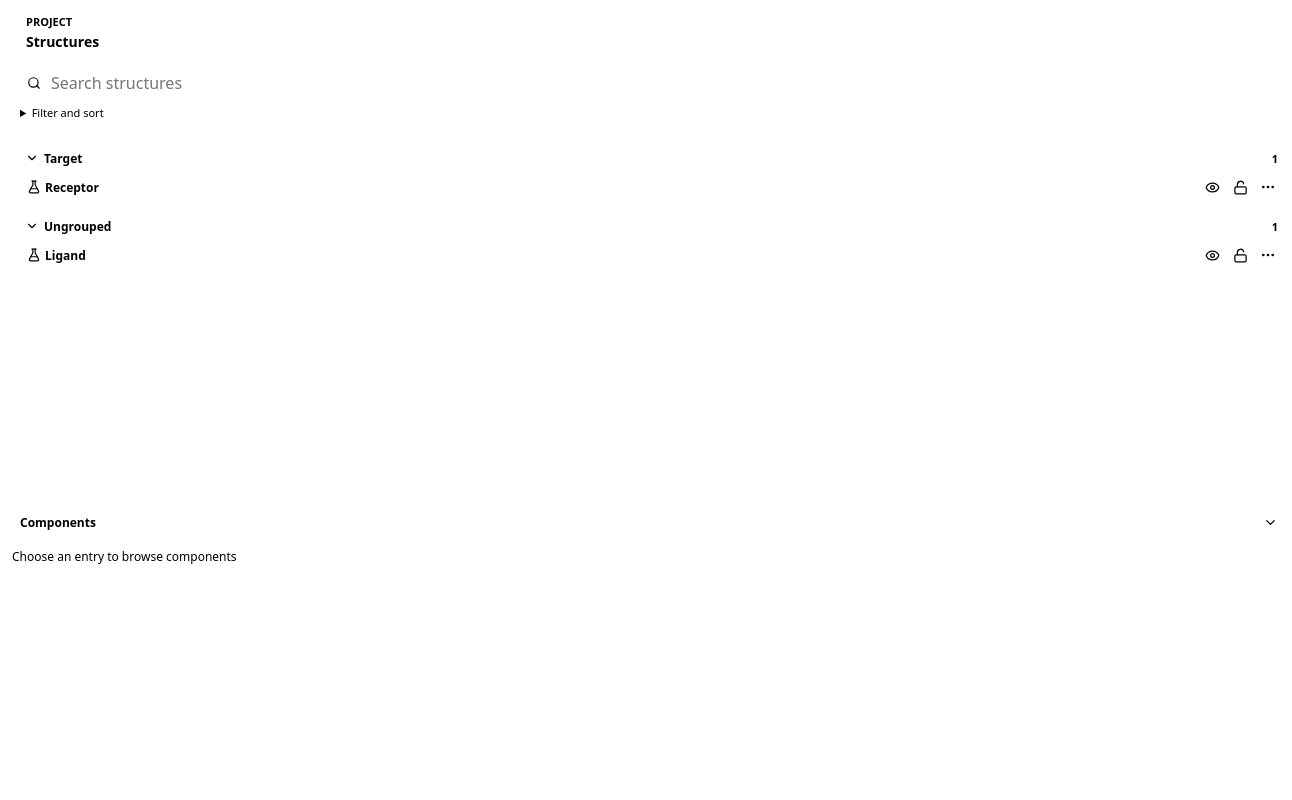
Test: retains filtered browsing, clears deletion and project changes, and does not reactivate on Undo
Click the button with class "entry-select" showing "Receptor" at (72, 187), box [22,173,1198,201]
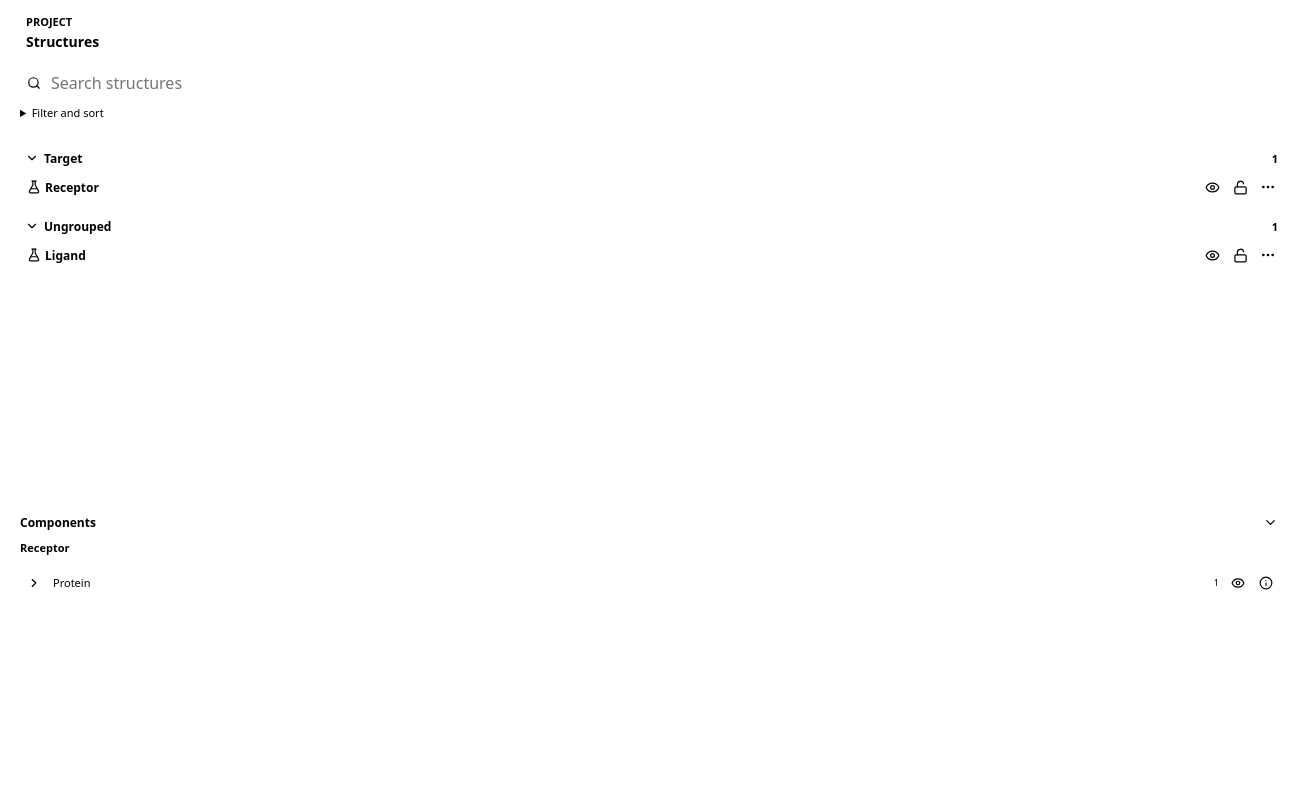
expect the button with aria-label "Select Protein in" is shown: met, box [48,569,1224,597]
Type "Ligand" into the field with placeholder "Search structures" at (666, 83), box [49,68,1284,98]
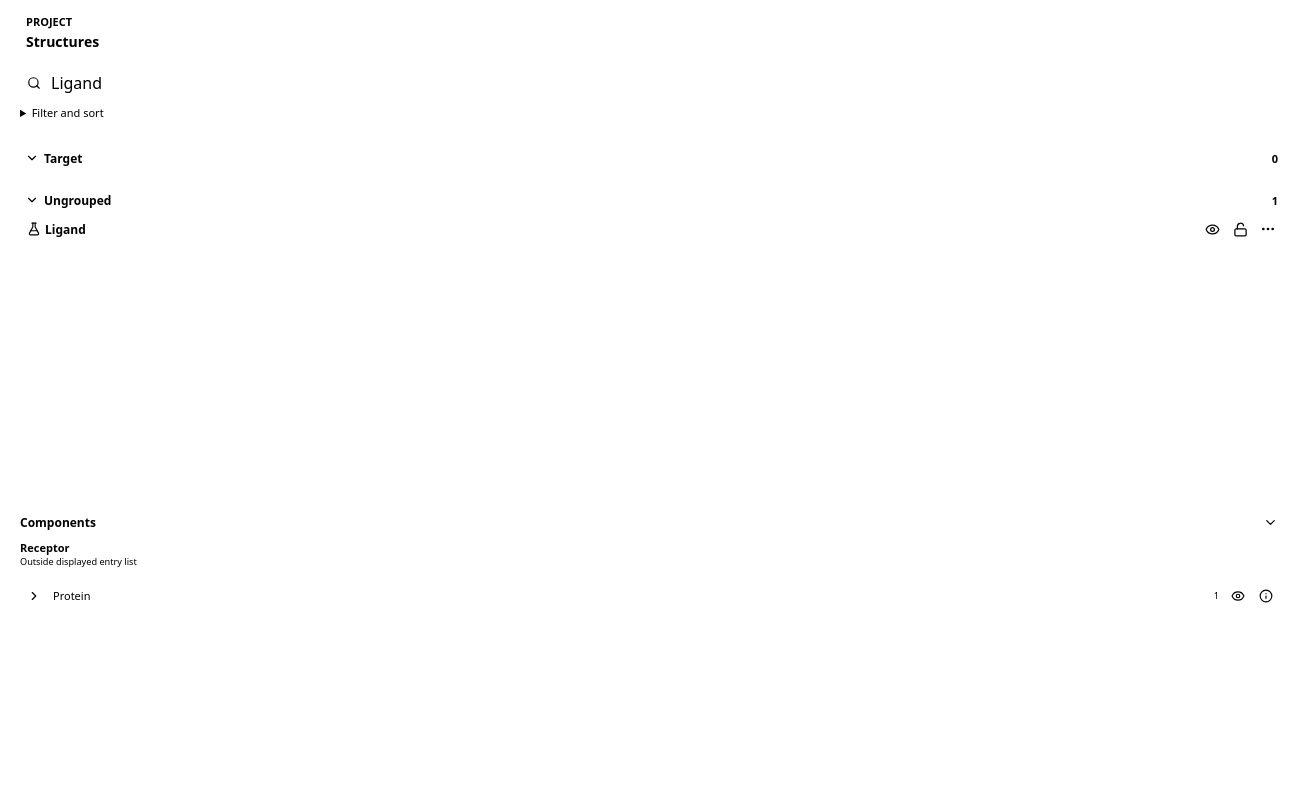
expect the text "Outside displayed entry list" is shown: met, box [20,555,137,568]
